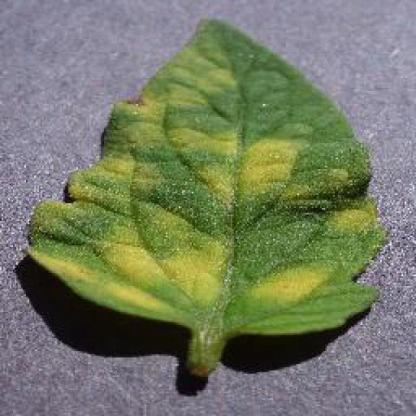Tomato_Leaf_Mold: (28, 21, 379, 332)
